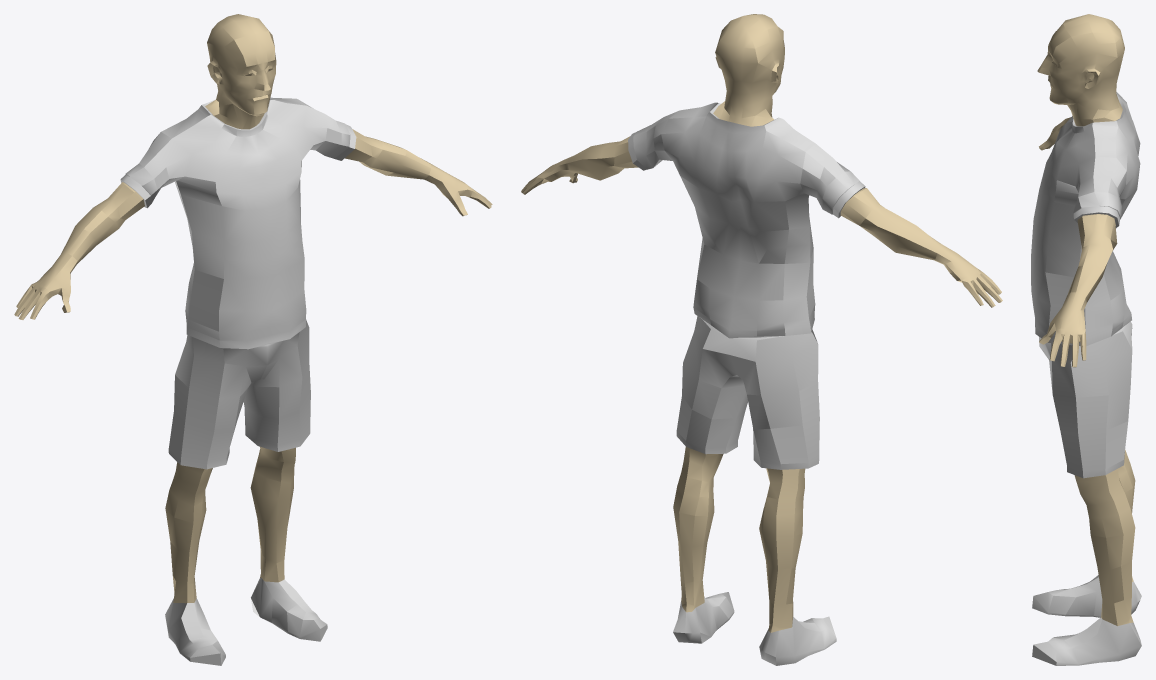
File: man.fbx
3 views of the same model, side by side, from view 1: azimuth 30°, elevation 25°; view 2: azimuth 150°, elevation 25°; view 3: azimuth 270°, elevation 25° (orthographic).
Visible parts, largest first — view 1: Mesh; view 2: Mesh; view 3: Mesh.
Boxes of the visible parts, box(x1,y1,x2,y2) form: Mesh: box(14, 14, 492, 665); Mesh: box(521, 14, 1002, 665); Mesh: box(1031, 14, 1141, 665).
Bounding box in the file's own units: 246 × 307 × 49.99.
